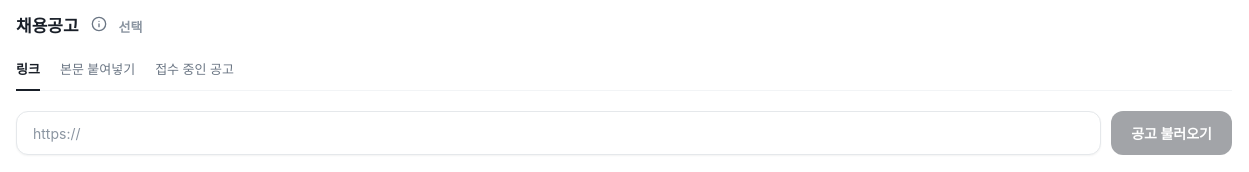
Test: JobPostingSection › keeps the fetch button disabled until the URL is valid
Check: the button "공고 불러오기" is disabled, box [1111, 111, 1232, 155]
Type "원티드 공고" into the field named "채용 공고 링크". click: (559, 133)
box: [16, 111, 1101, 155]
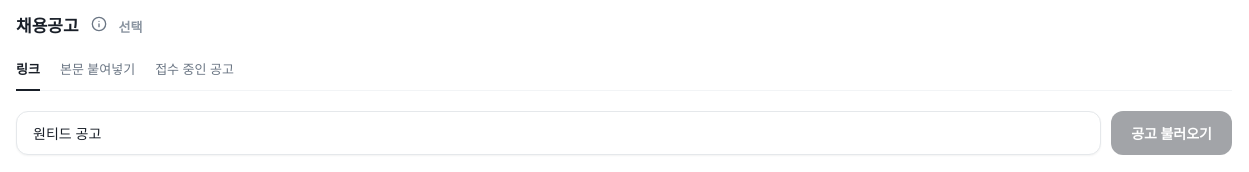
Check: the button "공고 불러오기" is disabled, box [1111, 111, 1232, 155]
Replace the text in the field named "채용 공고 링크" with "https://www.wanted.co.kr/wd/1". click: (559, 133)
box: [16, 111, 1101, 155]
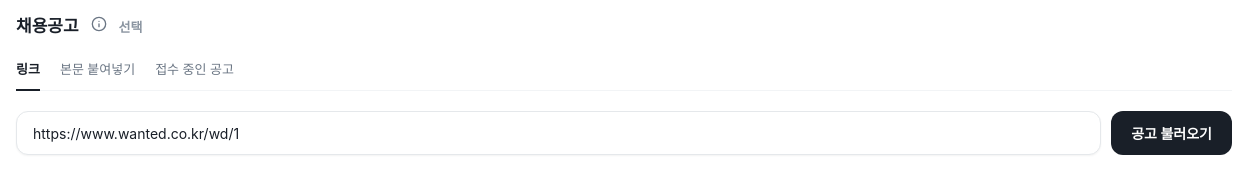
Check: the button "공고 불러오기" is enabled, box [1111, 111, 1232, 155]
